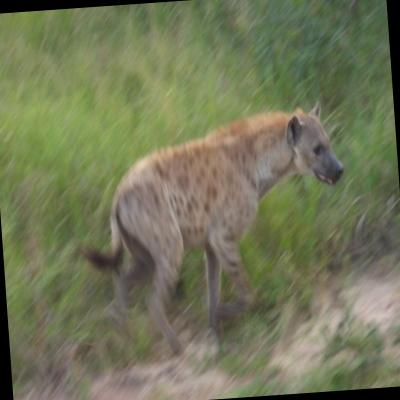hyenas: (0, 74, 371, 356)
